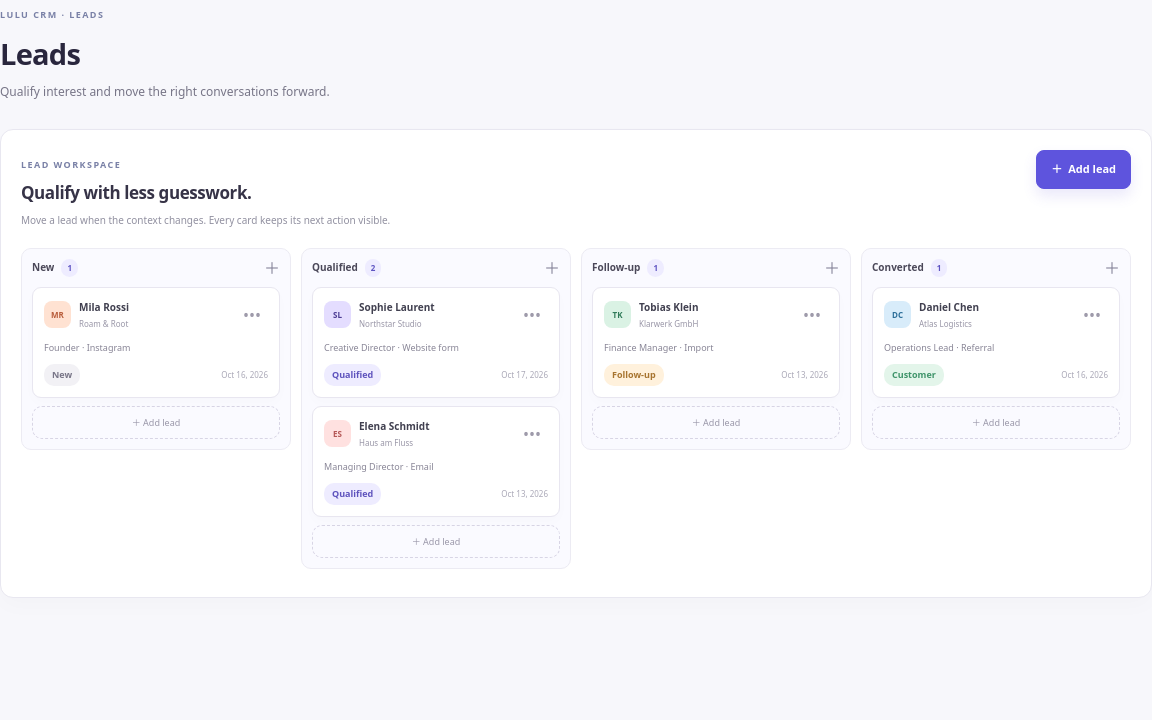
Test case: Leads page › opens the contact profile from a card
expect the button "Mila Rossi" is shown: met, box [79,300,228,315]
Click the button "Sophie Laurent" at (434, 307), box [359,300,508,315]
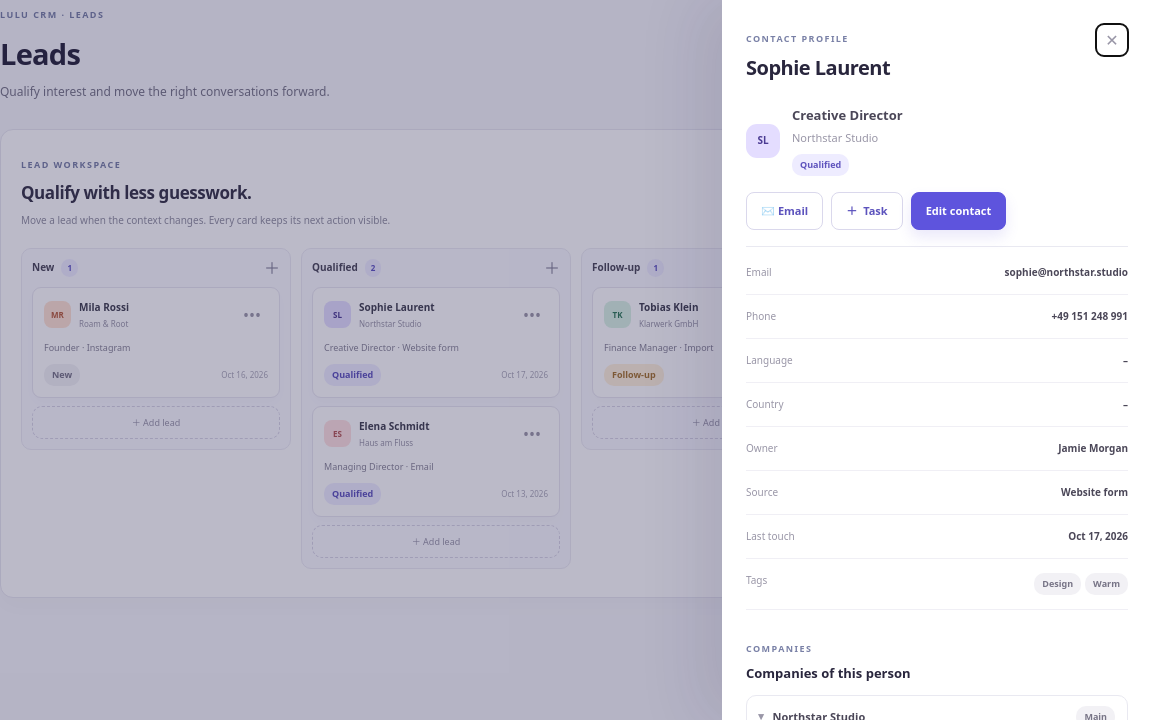
expect the dialog "Sophie Laurent" is shown: met, box [722,0,1151,719]
